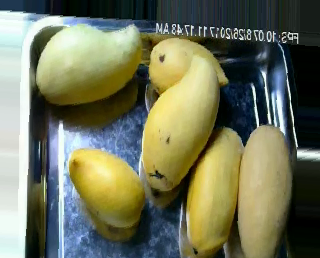Mango: (141, 54, 221, 194), (34, 25, 140, 104), (185, 125, 244, 254), (239, 124, 291, 256), (68, 149, 143, 228), (149, 36, 228, 95)
